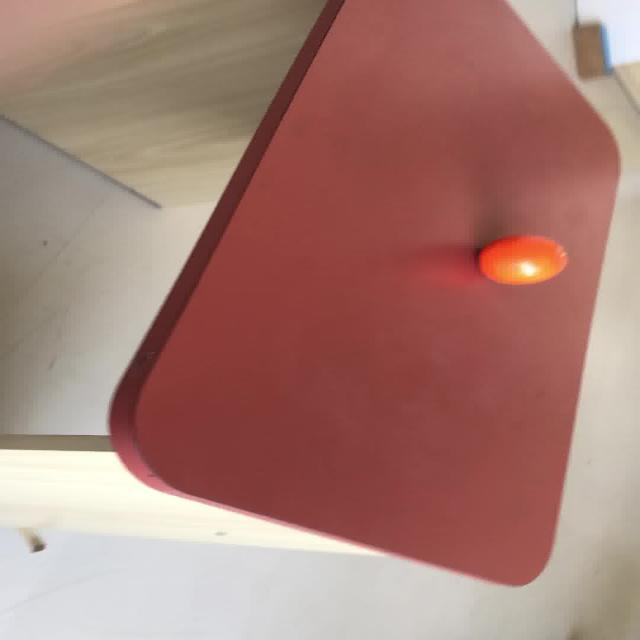orange: (106, 0, 622, 586), (476, 234, 568, 285)
